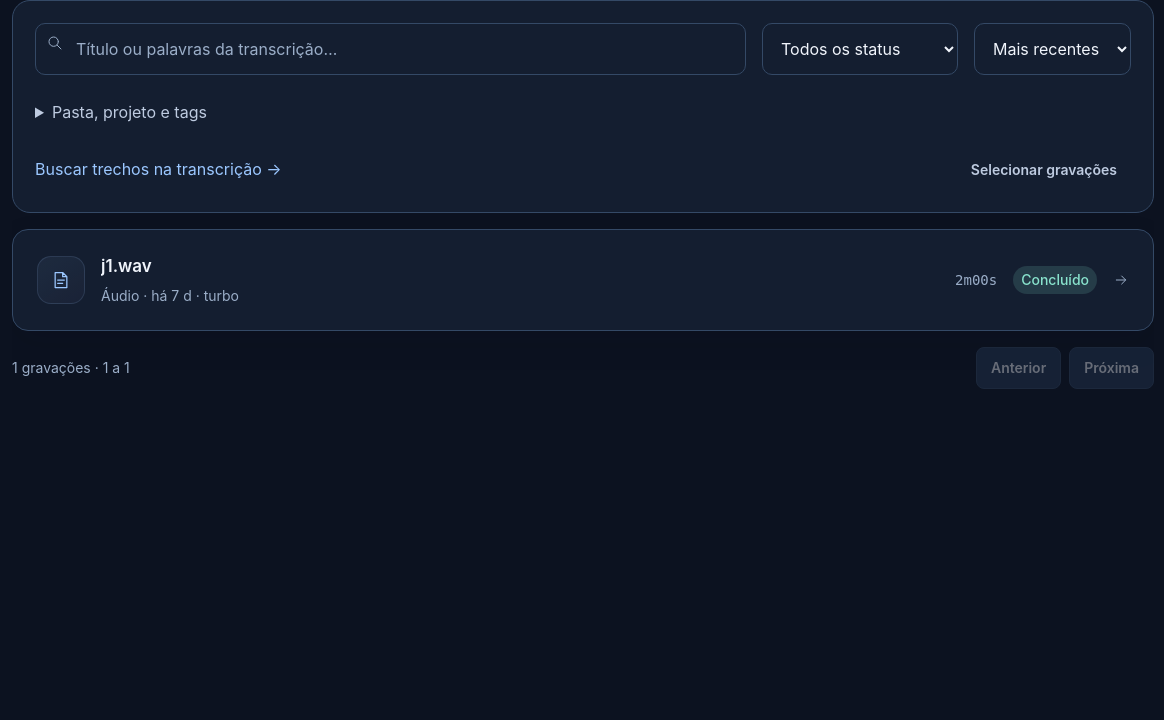
Test: explains a failed bulk change
Expected: the text "j1.wav" is shown, x1=101 y1=256 x2=152 y2=276
Click the button "Selecionar gravações": [1044, 170] box x1=957 y1=150 x2=1131 y2=190
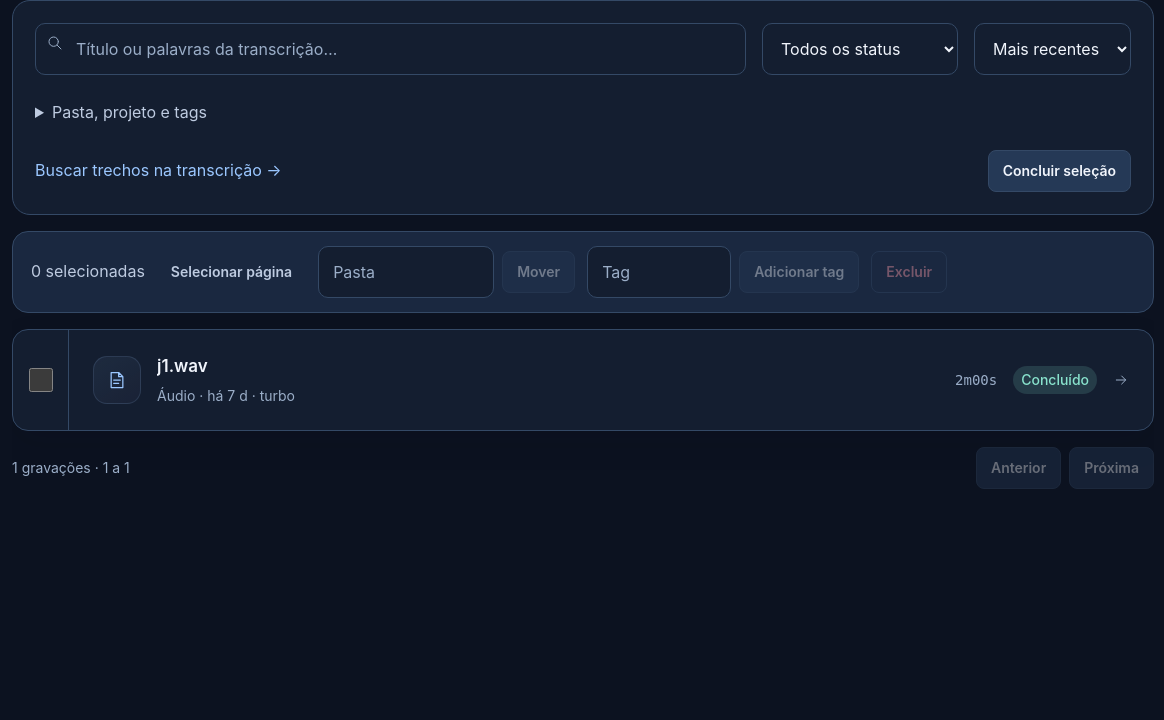
Click the checkbox named "Selecionar j1.wav": [40, 380] box x1=28 y1=368 x2=52 y2=392
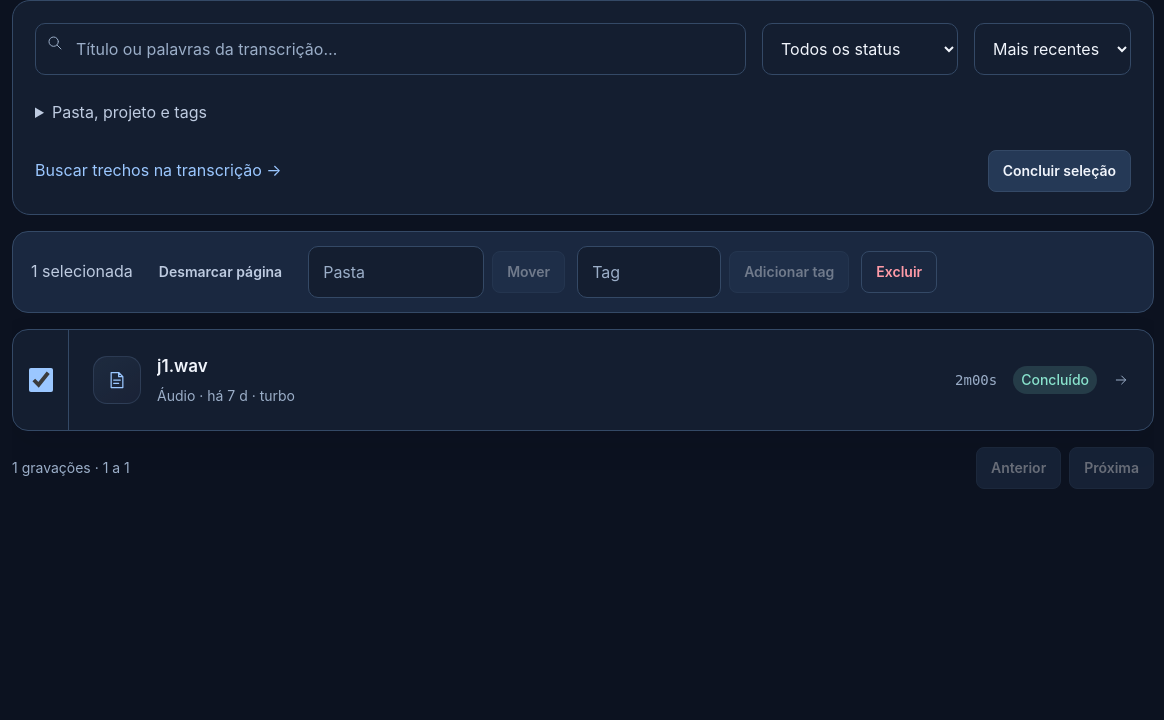
In the field named "Adicionar tag à seleção": [649, 272] box x1=577 y1=246 x2=721 y2=298, type "revisar"
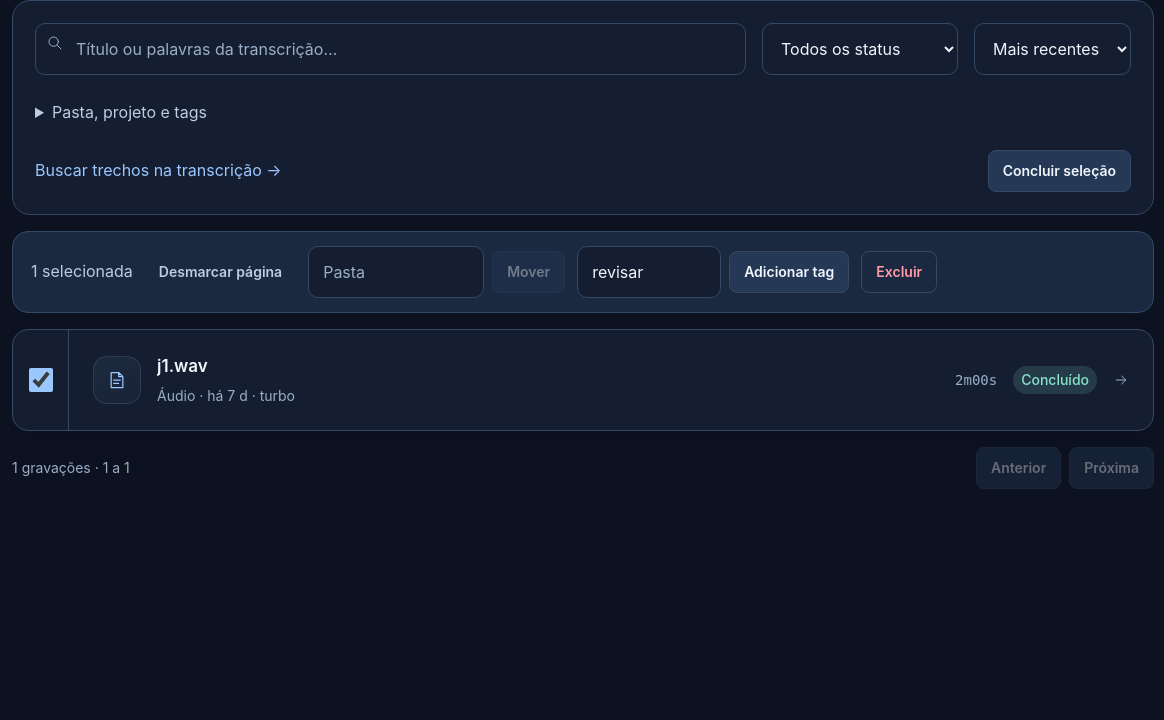
Click the button "Adicionar tag": [789, 272] box x1=729 y1=251 x2=849 y2=293
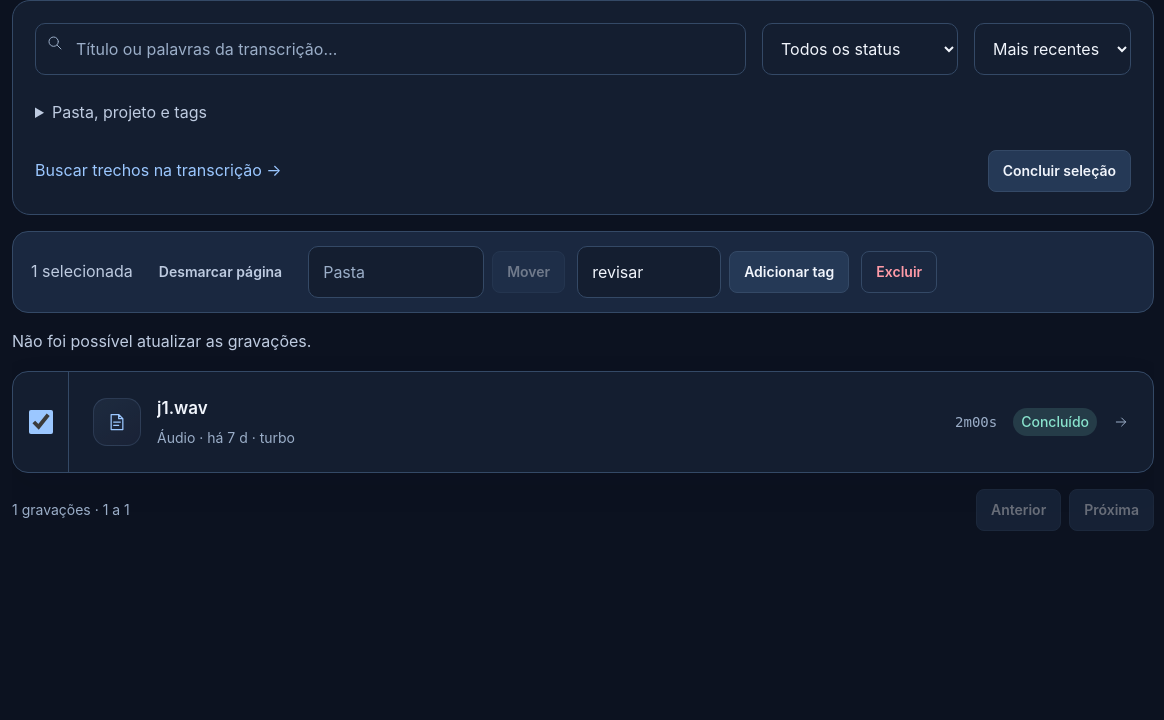
Expected: the text "Não foi possível atualizar as gravações." is shown, x1=12 y1=331 x2=311 y2=351
